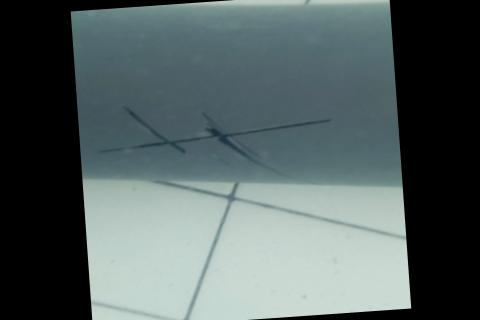keretakan: (88, 88, 335, 191)
